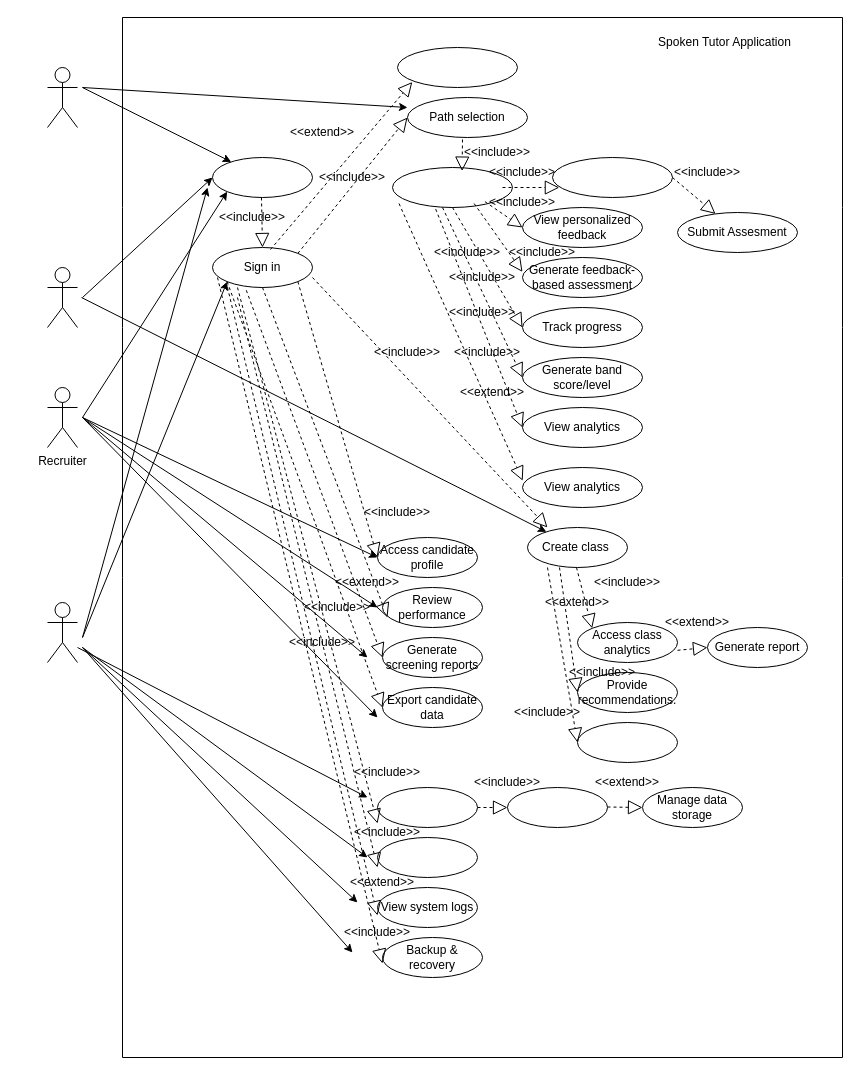
The diagram is 861 pixels wide and 1076 high, and some of its shapes have lost their labels. Here are the shapes that lost their labels. From the top down, the box of each, then its label:
(396, 46, 518, 88): Acess class
(46, 66, 78, 128): Learner
(212, 156, 312, 198): Sign up
(392, 166, 512, 208): Select assessment type
(552, 156, 672, 198): Do skill assessment
(46, 266, 78, 328): Educator/teacher
(46, 602, 78, 662): Admin
(576, 722, 678, 762): Monitor performance
(376, 786, 478, 828): Manage user roles
(506, 786, 608, 828): Configure system settings
(376, 836, 478, 878): Moniter system health
